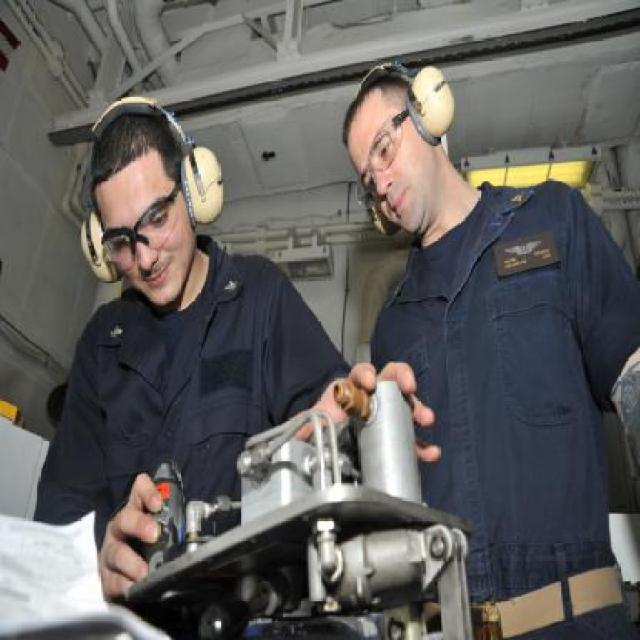earphone: (64, 62, 258, 210)
